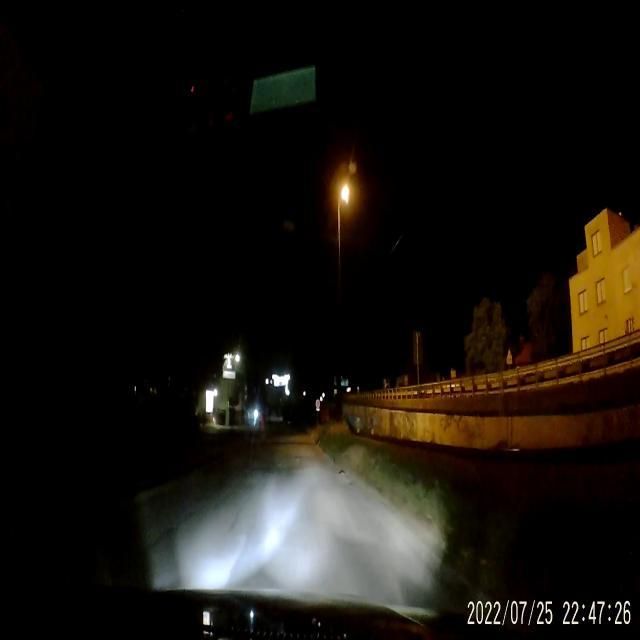Pothole: (324, 454, 362, 492)
